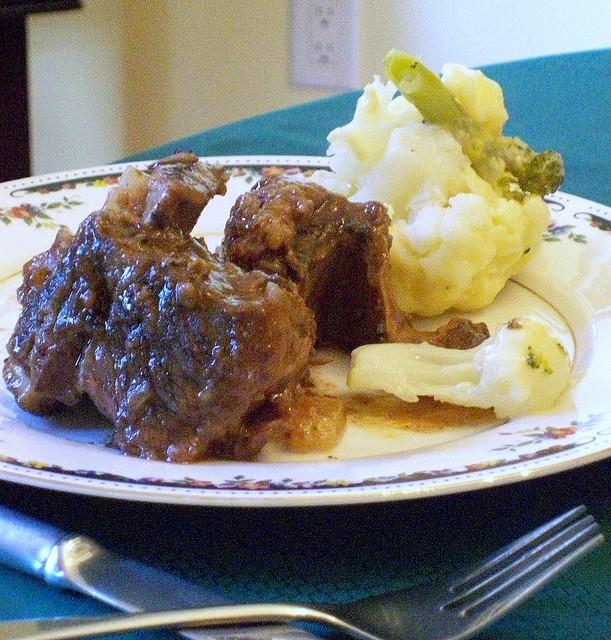broccoli: (381, 49, 564, 202)
cauliflower: (347, 121, 552, 318), (347, 318, 574, 420), (326, 75, 425, 188), (442, 62, 510, 138)
